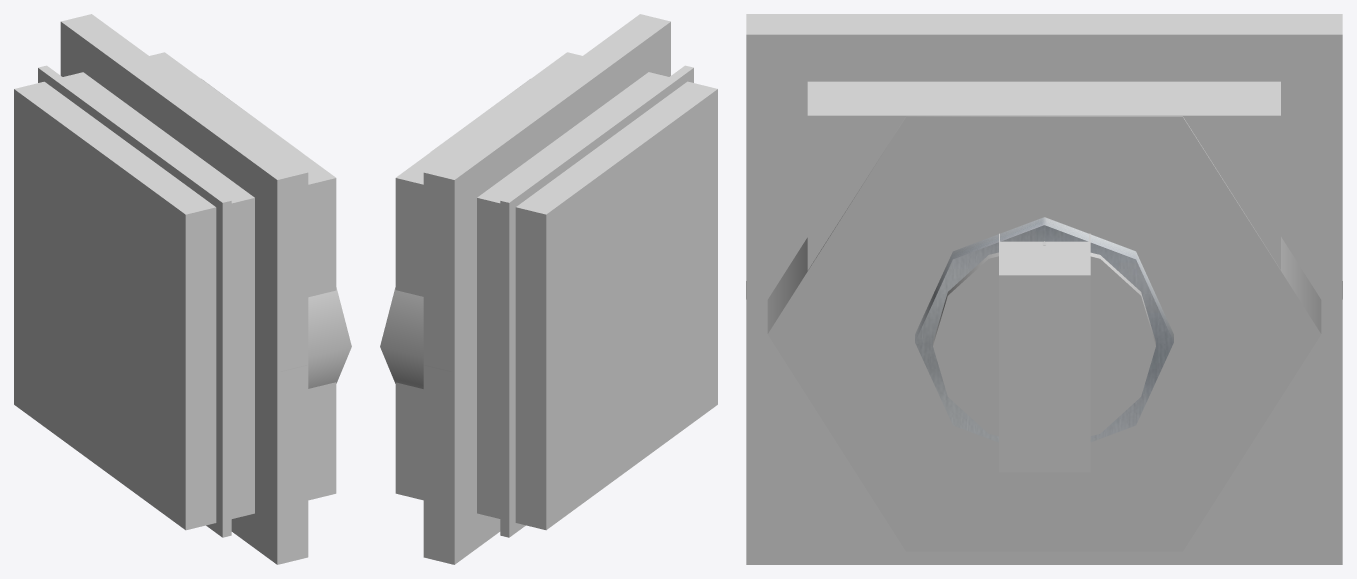
Rendered from rad1_zagl_vozd.FBX.
The picture shows the model from 3 angles, left to right: view 1: azimuth 30°, elevation 25°; view 2: azimuth 150°, elevation 25°; view 3: azimuth 270°, elevation 25°; orthographic projection. The views are drawn at different scales.
Parts seen in each view (by area): view 1: rad1_zagl_vozd_COL, size_1_L_est_004, rad1_zagl_vozd; view 2: rad1_zagl_vozd_COL, size_1_L_est_004, rad1_zagl_vozd; view 3: rad1_zagl_vozd_COL, rad1_zagl_vozd.
Boxes of the visible parts, left/top/right/bottom form: rad1_zagl_vozd_COL: left=14, top=14, right=336, bottom=564; size_1_L_est_004: left=38, top=65, right=231, bottom=537; rad1_zagl_vozd: left=202, top=79, right=351, bottom=388; rad1_zagl_vozd_COL: left=395, top=14, right=717, bottom=564; size_1_L_est_004: left=500, top=65, right=693, bottom=537; rad1_zagl_vozd: left=380, top=79, right=529, bottom=388; rad1_zagl_vozd_COL: left=746, top=14, right=1342, bottom=564; rad1_zagl_vozd: left=746, top=116, right=1342, bottom=551.
Size of the model in its own units: 0.024 by 0.0414 by 0.0422.
3 materials, 2 textured.
